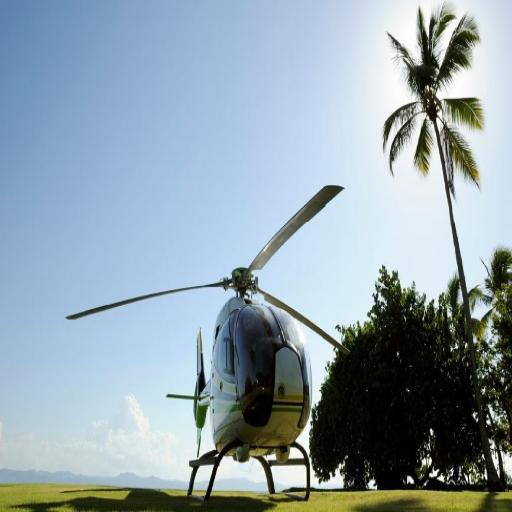helicopter: (60, 169, 386, 501)
